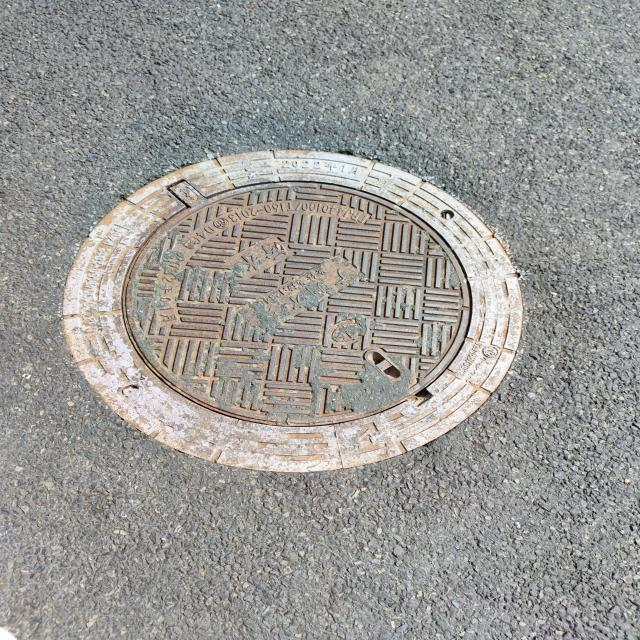Good: (59, 146, 532, 480)
